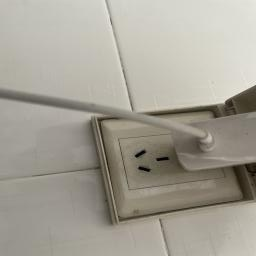outlet: (99, 77, 252, 242)
